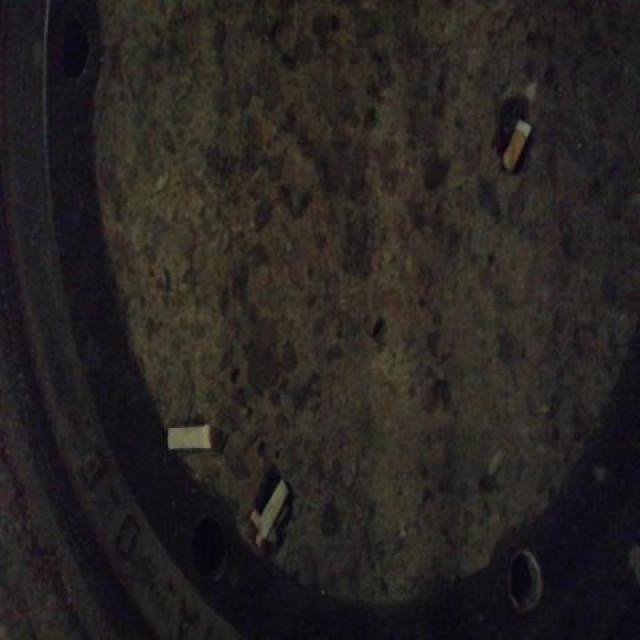non-organic waste: (258, 474, 294, 542), (501, 113, 535, 179), (165, 418, 218, 454)
